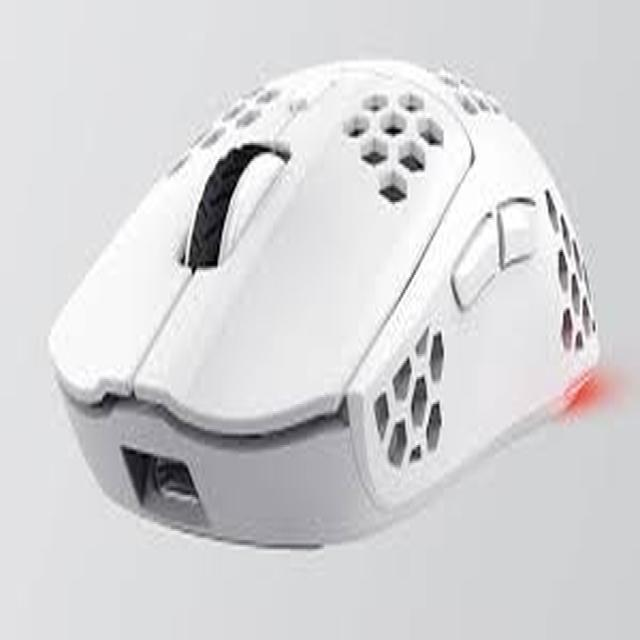mouse: (45, 63, 609, 526)
